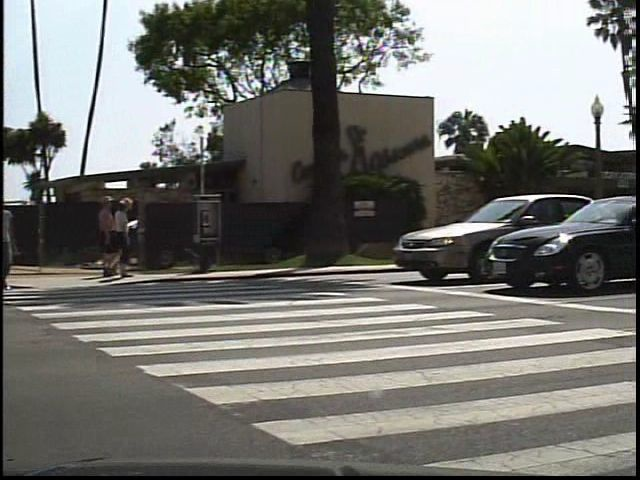person: (2, 194, 26, 294)
